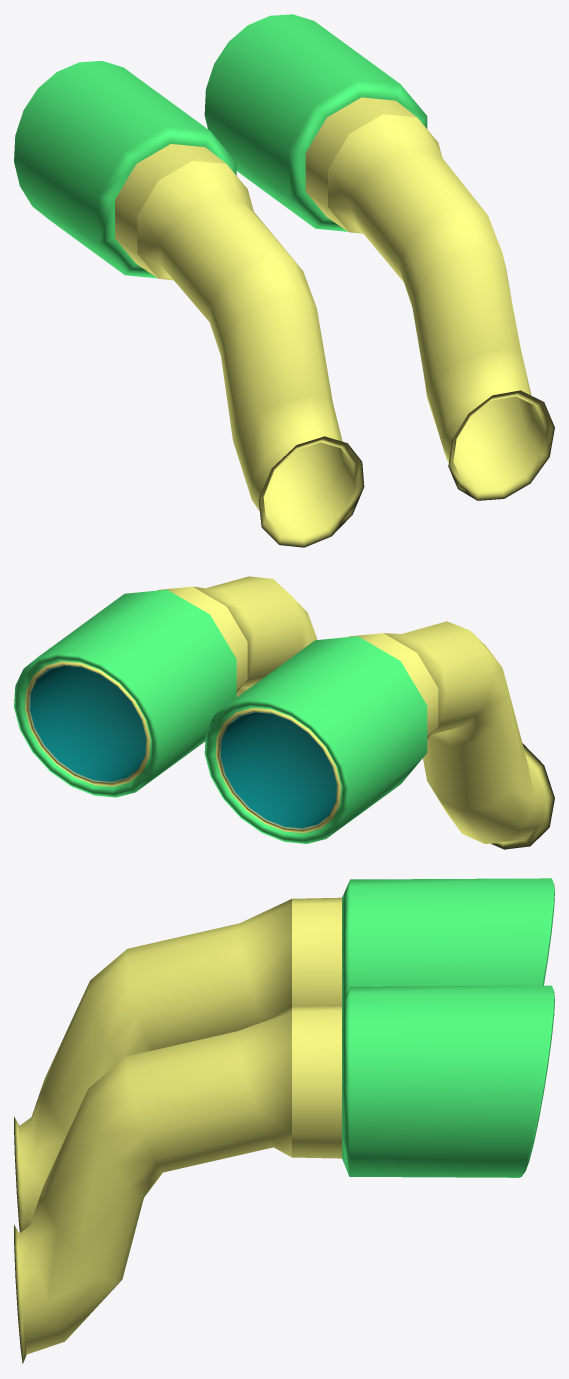
Rendered from Car_Mini_CountrymanJCW_2017_Exhausts_SetFD_AltA.fbx.
3 renders of one model, top to bottom at view 1: azimuth 30°, elevation 25°; view 2: azimuth 150°, elevation 25°; view 3: azimuth 270°, elevation 25°, orthographic. The views are drawn at different scales.
Visible parts, largest first — view 1: Exhausts 6; view 2: Exhausts 6; view 3: Exhausts 6.
Part boxes in pixels (x1,y1,x2,y2): Exhausts 6: (14,14,554,547); Exhausts 6: (14,576,554,849); Exhausts 6: (14,878,554,1363).
Size of the model in its own units: 0.2187 by 0.1964 by 0.2645.
